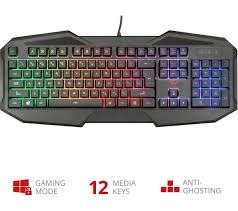keyboard: (0, 28, 238, 129)
